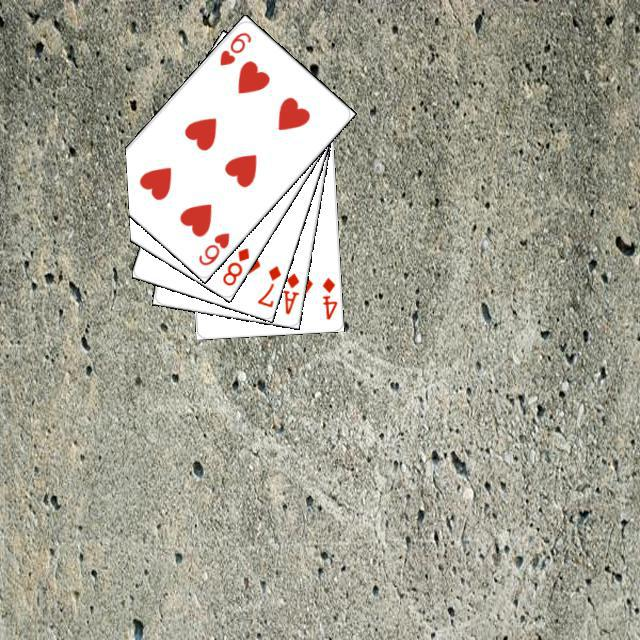4d: (317, 273, 338, 321)
6h: (215, 27, 253, 68), (193, 228, 231, 268)
7d: (252, 260, 283, 309)
8d: (217, 242, 251, 288)
Ad: (278, 268, 301, 316)
